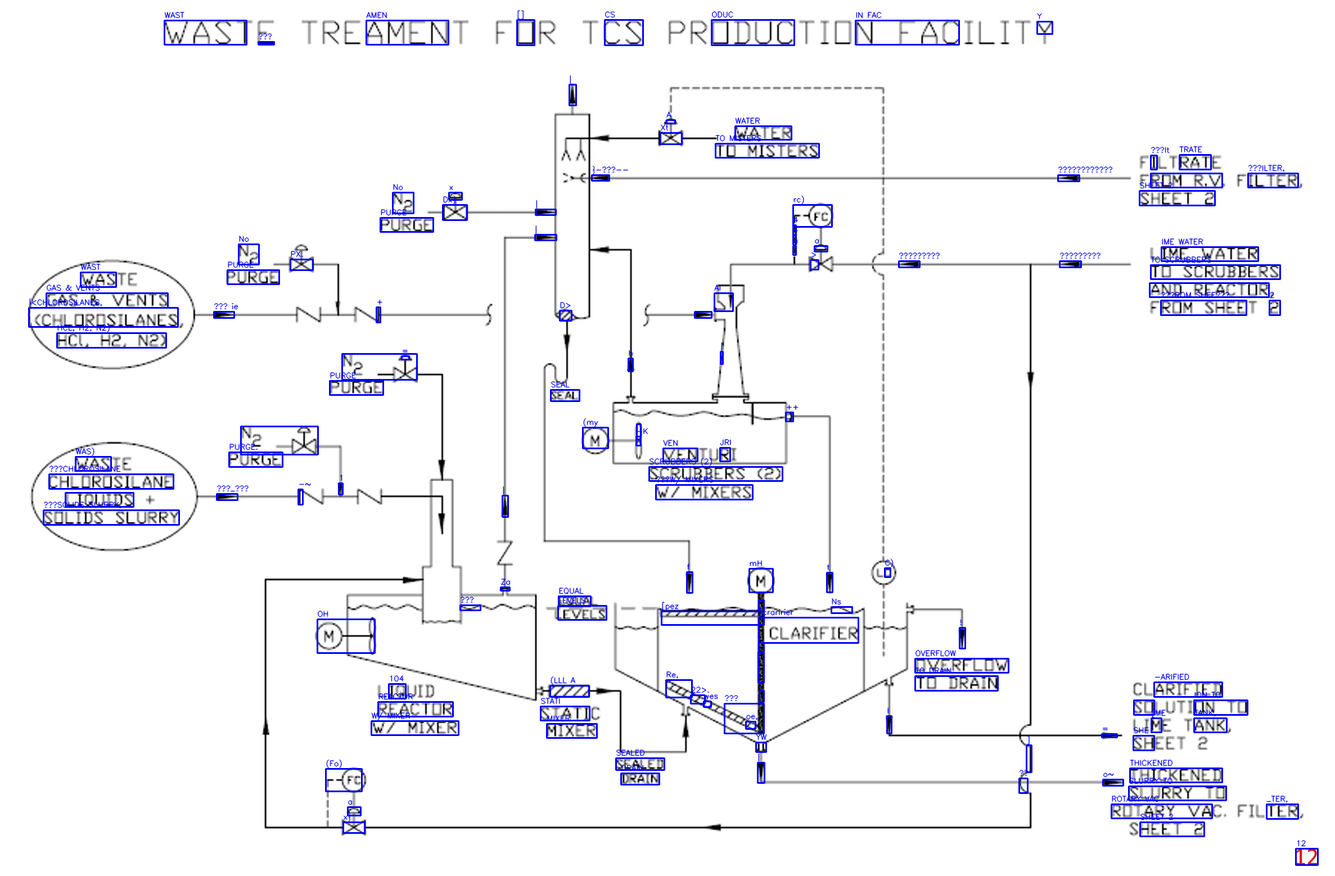Instrumento: (807, 199, 837, 231), (867, 559, 898, 588), (340, 766, 367, 793)
Misturador: (577, 417, 645, 463), (313, 612, 380, 657), (547, 682, 593, 699)
Motor: (743, 564, 777, 595)
Tanque: (613, 598, 917, 756), (609, 281, 792, 467), (342, 589, 539, 706), (552, 110, 593, 324)
Válvula: (338, 803, 369, 841), (288, 423, 319, 459), (287, 241, 318, 275), (806, 241, 837, 273), (391, 351, 420, 385), (440, 191, 470, 223), (657, 116, 685, 150), (296, 485, 328, 508), (293, 302, 324, 325), (352, 302, 381, 326), (493, 537, 516, 567), (354, 486, 385, 508)
